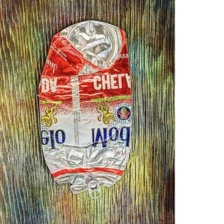can: (34, 16, 139, 200)
